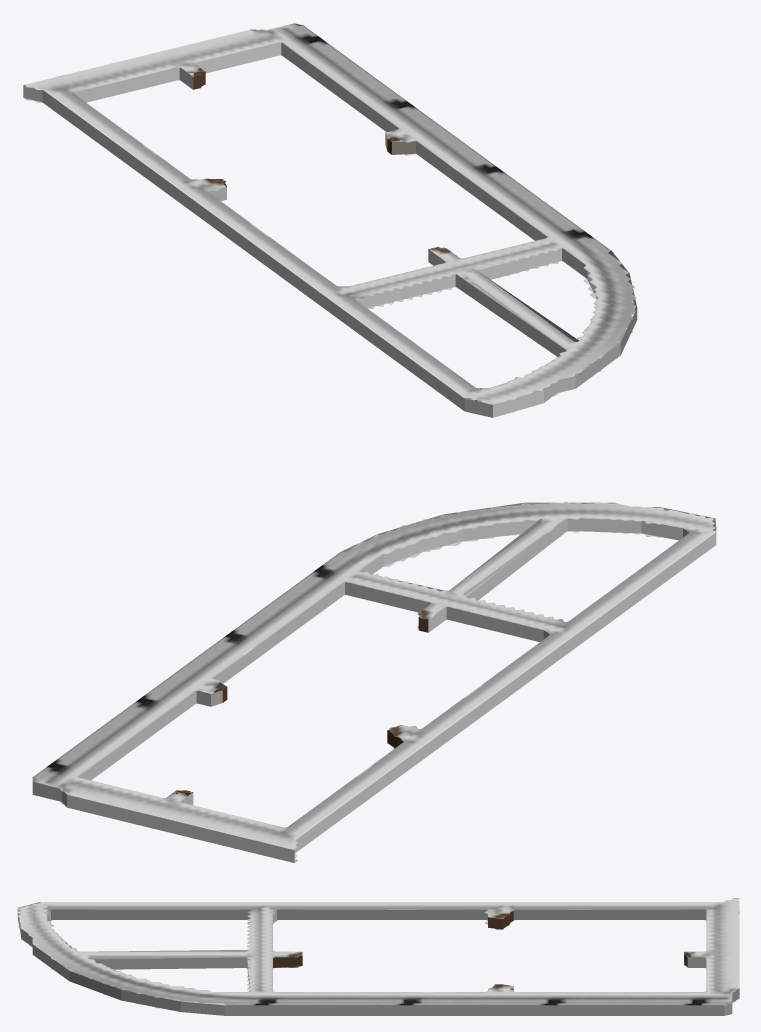
File: pz_native_fixtures_windows_white_63_frame.obj
The picture shows the model from 3 angles, top to bottom: view 1: azimuth 30°, elevation 25°; view 2: azimuth 150°, elevation 25°; view 3: azimuth 270°, elevation 25°; orthographic projection. The views are drawn at different scales.
Parts seen in each view (by area): view 1: pz_native_fixtures_windows_white_63_frame; view 2: pz_native_fixtures_windows_white_63_frame; view 3: pz_native_fixtures_windows_white_63_frame.
Part boxes in pixels (<box>): pz_native_fixtures_windows_white_63_frame: <box>23,23,637,417</box>; pz_native_fixtures_windows_white_63_frame: <box>32,502,716,862</box>; pz_native_fixtures_windows_white_63_frame: <box>17,898,739,1015</box>.
Size of the model in its own units: 0.9062 by 0.04 by 2.53.
1 material, 1 textured.
